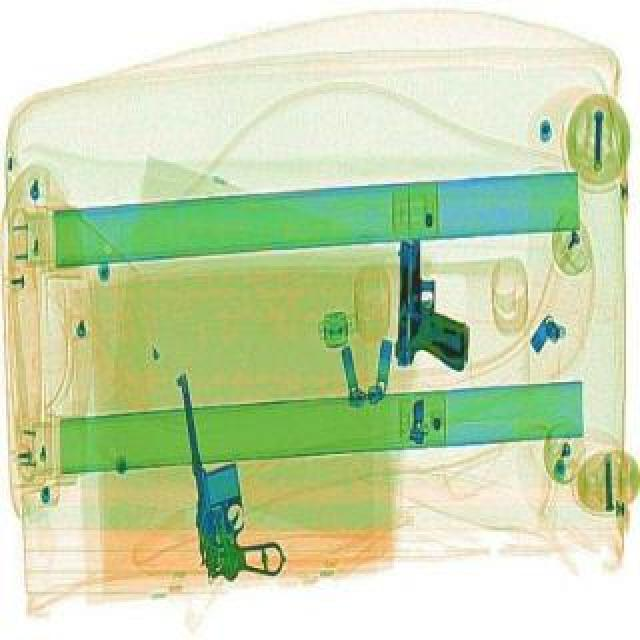gun: (172, 362, 288, 584), (392, 236, 472, 368)
